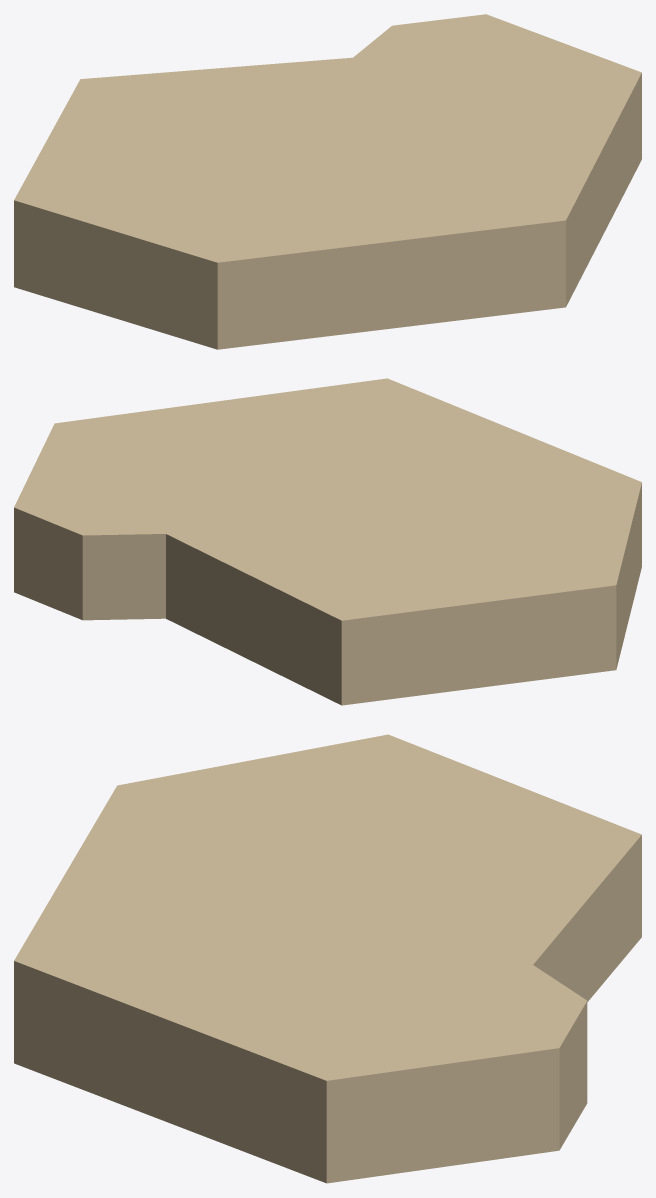
File: naturePack_013.fbx
3 views of the same model, one above another, from view 1: azimuth 30°, elevation 25°; view 2: azimuth 150°, elevation 25°; view 3: azimuth 270°, elevation 25° (orthographic). The views are drawn at different scales.
Parts seen in each view (by area): view 1: naturePack_013; view 2: naturePack_013; view 3: naturePack_013.
Part boxes in pixels (x1,y1,x2,y2): naturePack_013: (14,14,641,349); naturePack_013: (14,378,641,705); naturePack_013: (14,734,641,1183).
Bounding box in the file's own units: 130 × 18 × 99.87.
